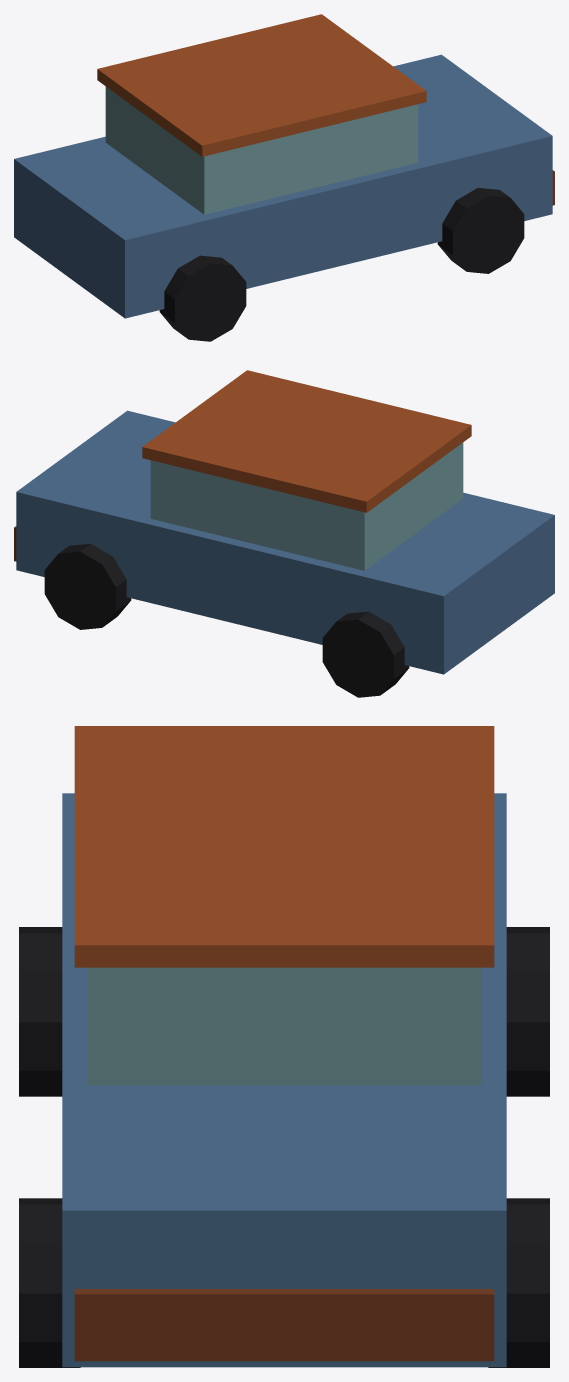
File: wrecked_car.glb
3 renders of one model, top to bottom at view 1: azimuth 30°, elevation 25°; view 2: azimuth 150°, elevation 25°; view 3: azimuth 270°, elevation 25°, orthographic. The views are drawn at different scales.
Visible parts, largest first — view 1: wrecked_car; view 2: wrecked_car; view 3: wrecked_car.
Boxes of the visible parts, x1,y1,x2,y2 form: wrecked_car: [14, 14, 554, 341]; wrecked_car: [14, 370, 554, 697]; wrecked_car: [19, 726, 549, 1367].
Bounding box in the file's own units: 4.05 × 1.65 × 2.15.
